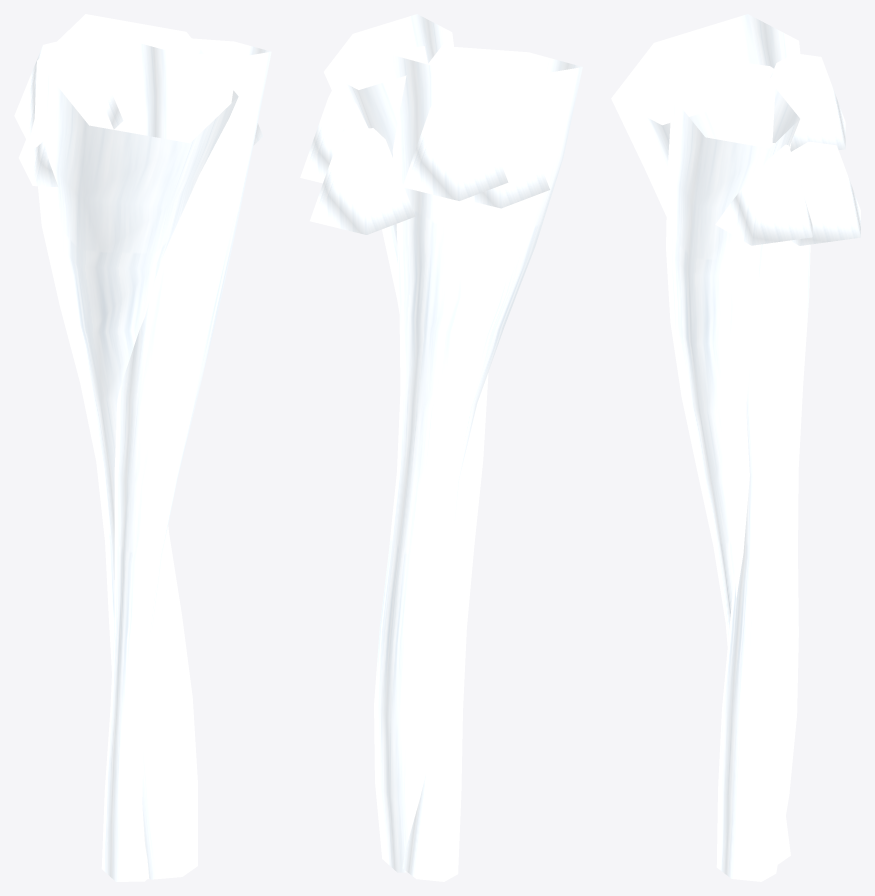
Rendered from Oracle_Light_Pillar_LOD1.gltf.
3 renders of one model, left to right at view 1: azimuth 30°, elevation 25°; view 2: azimuth 150°, elevation 25°; view 3: azimuth 270°, elevation 25°, orthographic. The views are drawn at different scales.
Visible parts, largest first — view 1: Oracle_Light_Pillar_LOD1; view 2: Oracle_Light_Pillar_LOD1; view 3: Oracle_Light_Pillar_LOD1.
Boxes of the visible parts, left/top/right/bottom form: Oracle_Light_Pillar_LOD1: left=14, top=14, right=271, bottom=881; Oracle_Light_Pillar_LOD1: left=300, top=14, right=582, bottom=881; Oracle_Light_Pillar_LOD1: left=611, top=14, right=860, bottom=881.
Bounding box in the file's own units: 9.8 × 33.6 × 9.42.
Materials: 2 (2 with a texture image).
